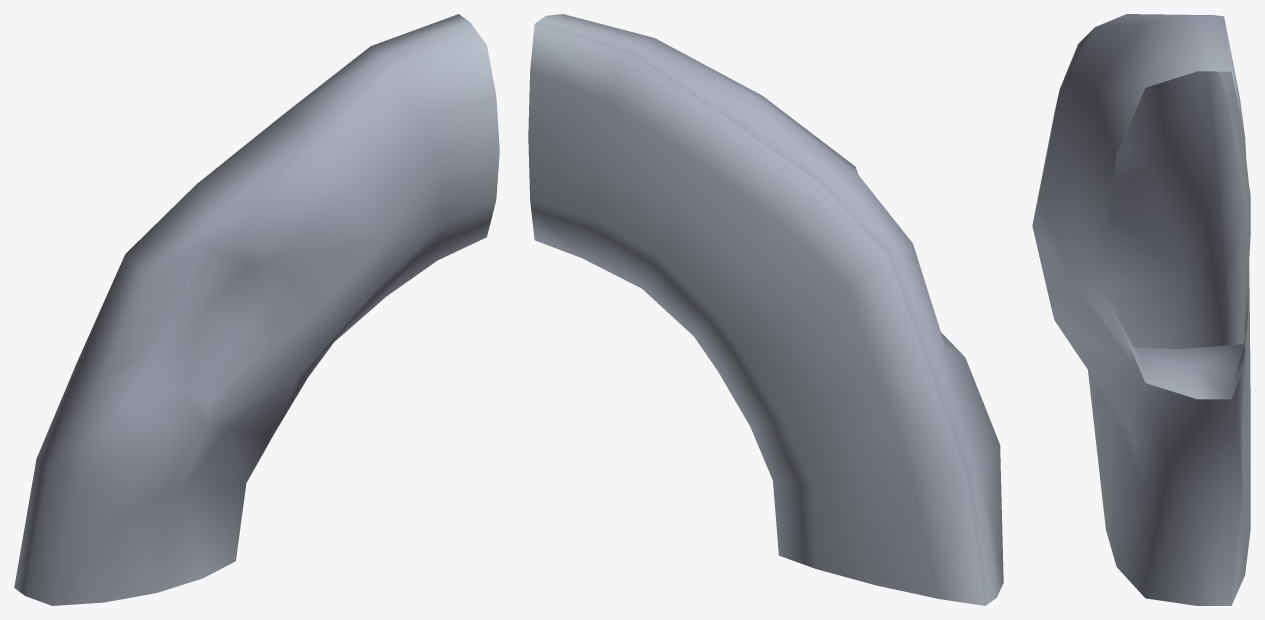
File: Cave_IceCaveCurveA_lod1.glb
The picture shows the model from 3 angles, left to right: view 1: azimuth 30°, elevation 25°; view 2: azimuth 150°, elevation 25°; view 3: azimuth 270°, elevation 25°; orthographic projection. The views are drawn at different scales.
Parts seen in each view (by area): view 1: MeshNode_0; view 2: MeshNode_1, MeshNode_0; view 3: MeshNode_0, MeshNode_1.
Boxes of the visible parts, x1,y1,x2,y2 form: MeshNode_0: (14,14,499,605); MeshNode_1: (528,24,985,605); MeshNode_0: (535,14,1003,605); MeshNode_0: (1032,14,1242,605); MeshNode_1: (1210,18,1250,604).
Size of the model in its own units: 83.03 by 83.03 by 22.97.
